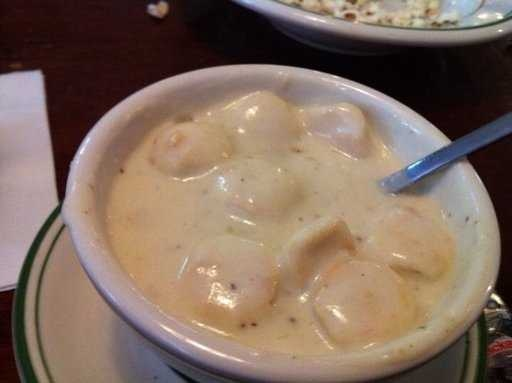soup: (81, 84, 480, 358)
